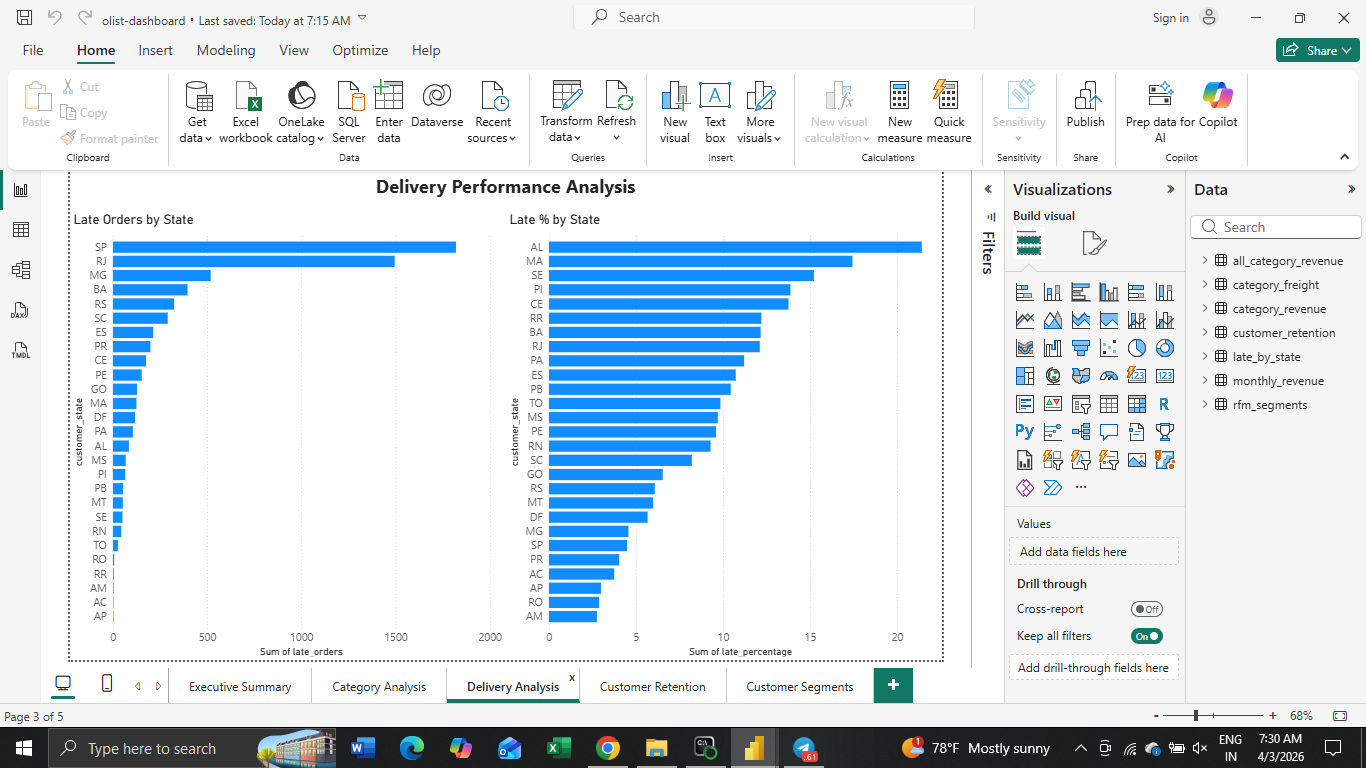

The dashboard page shown, as its layout file describes it:
{"tool":"powerbi","page":{"name":"Delivery Analysis","canvas":[1280,720],"ordinal":2},"visuals":[{"type":"clusteredBarChart","title":"Late Orders by State","fields":{"Category":["late_by_state.customer_state"],"Y":["Sum(late_by_state.late_orders)"]},"box":[0,61.7,640,658.3],"z":0},{"type":"clusteredBarChart","title":"Late % by State","fields":{"Category":["late_by_state.customer_state"],"Y":["Sum(late_by_state.late_percentage)"]},"box":[640,61.7,640,658.3],"z":1000},{"type":"textbox","box":[0,0,1280,61.7],"z":2000}]}

Visuals, with their boxes on the page's 1280x720 design canvas (x1, y1, x2, y2). These are canvas units, not pixel positions in the 1366x768 screenshot, which may show the page scaled, cropped or inside an application window:
"Late Orders by State" clusteredBarChart: {"left": 0, "top": 62, "right": 640, "bottom": 720}
"Late % by State" clusteredBarChart: {"left": 640, "top": 62, "right": 1280, "bottom": 720}
textbox: {"left": 0, "top": 0, "right": 1280, "bottom": 62}
